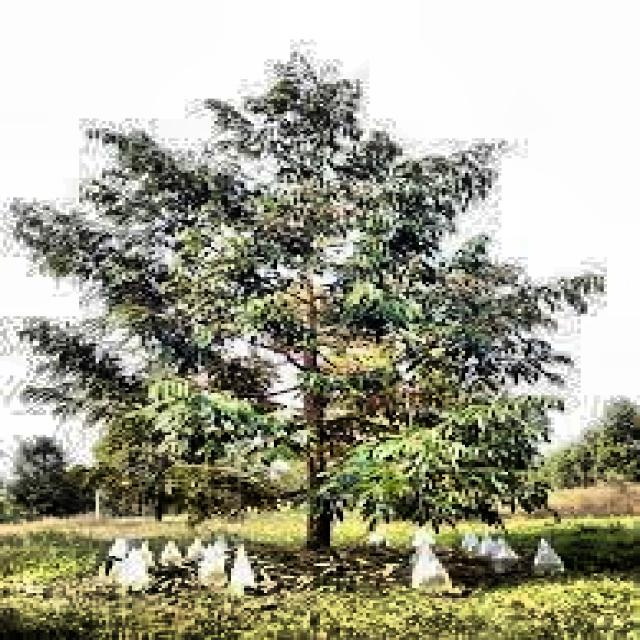arvore: (286, 241, 359, 572)
